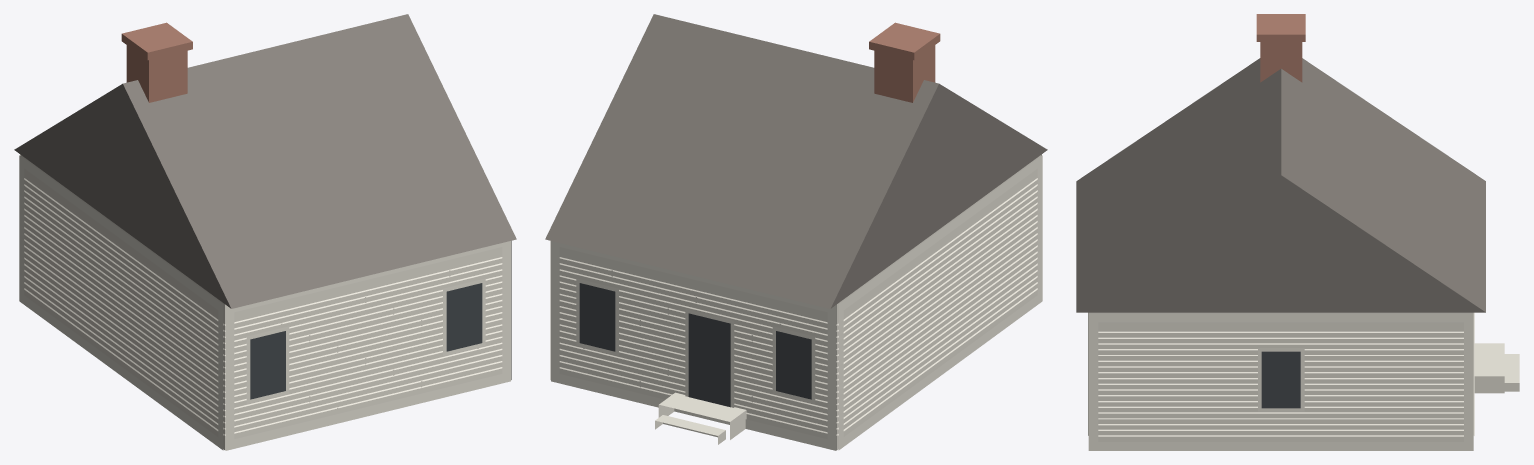
File: recon_1835_blk_south_water_clark_d4_02__inferred_1835.glb
3 views of the same model, side by side, from view 1: azimuth 30°, elevation 25°; view 2: azimuth 150°, elevation 25°; view 3: azimuth 270°, elevation 25° (orthographic). The views are drawn at different scales.
Visible parts, largest first — view 1: recon_1835_blk_south_water_clark_d4_02__inferred_1835; view 2: recon_1835_blk_south_water_clark_d4_02__inferred_1835; view 3: recon_1835_blk_south_water_clark_d4_02__inferred_1835.
Part boxes in pixels (bbox=[...]): recon_1835_blk_south_water_clark_d4_02__inferred_1835: bbox=[14, 14, 516, 450]; recon_1835_blk_south_water_clark_d4_02__inferred_1835: bbox=[545, 14, 1047, 450]; recon_1835_blk_south_water_clark_d4_02__inferred_1835: bbox=[1076, 14, 1519, 450].
Bounding box in the file's own units: 6.28 × 6.85 × 8.86.
